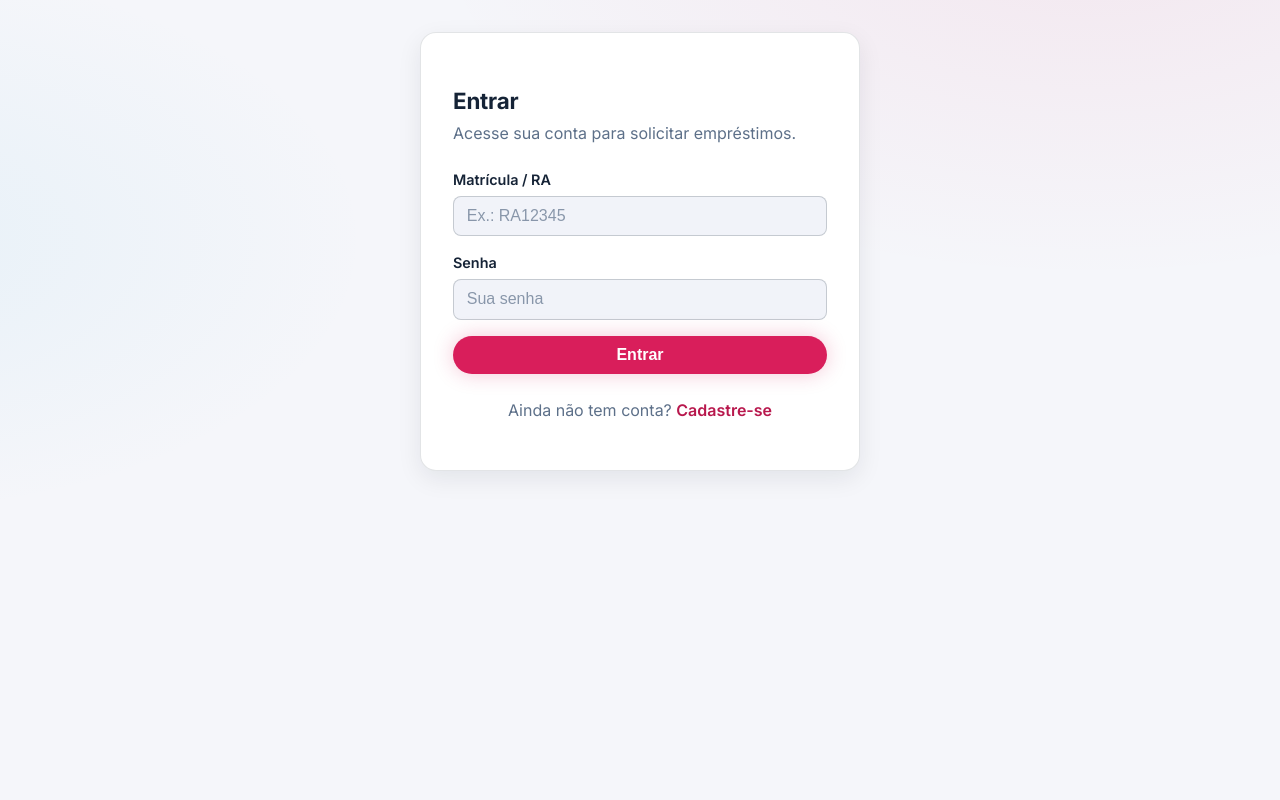
it: Tela de Login do Cliente › exibe mensagem de erro ao falhar na autenticação
Type "RA999" into the field labelled "Matrícula / RA" at (640, 216), box [453, 196, 827, 236]
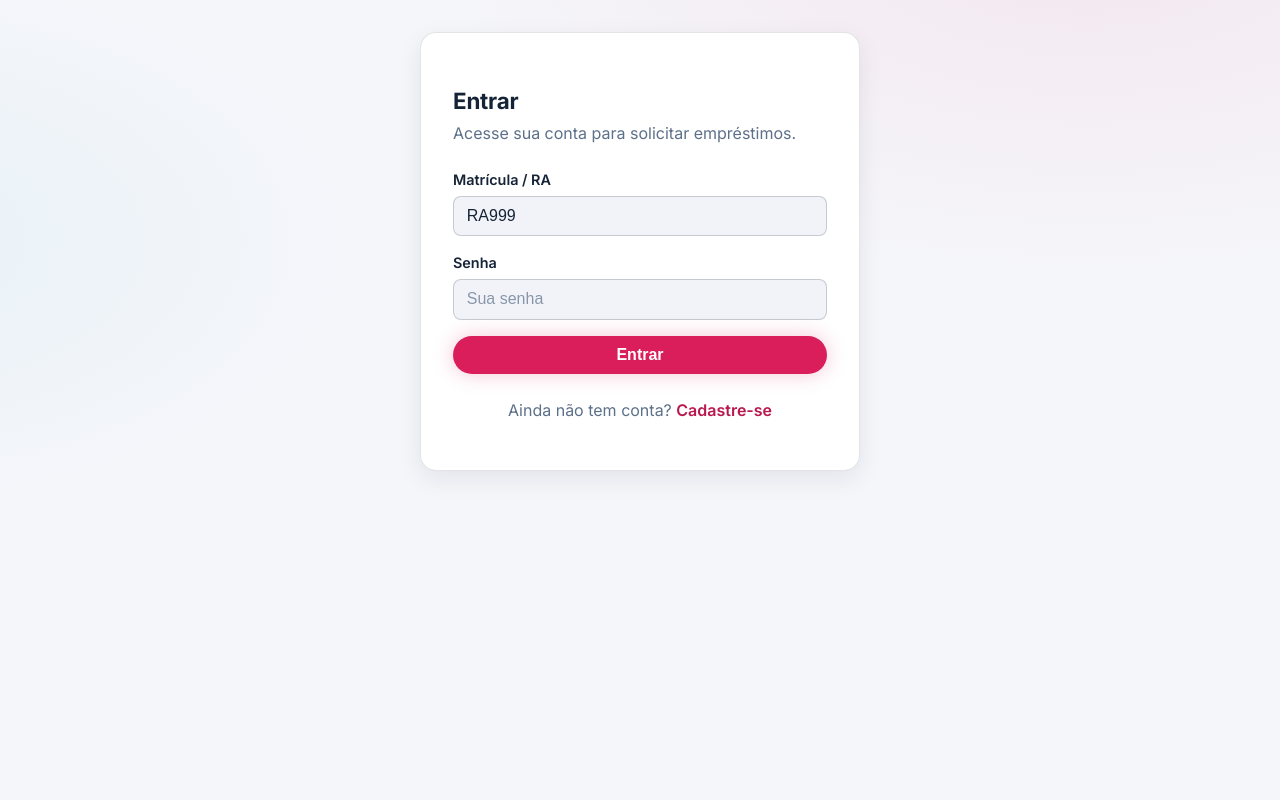
Type "errada" into the password field labelled "Senha" at (640, 299), box [453, 279, 827, 320]
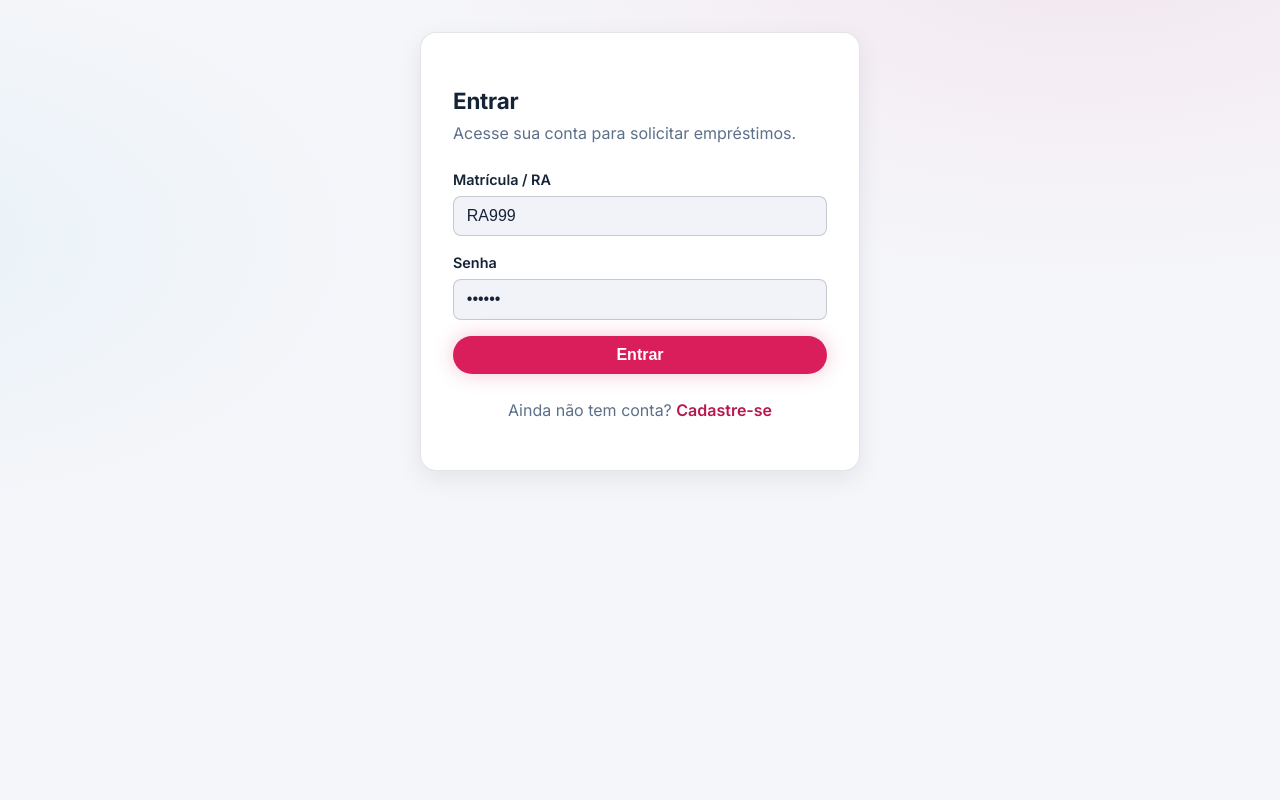
Click the button "Entrar" at (640, 355), box [453, 336, 827, 374]
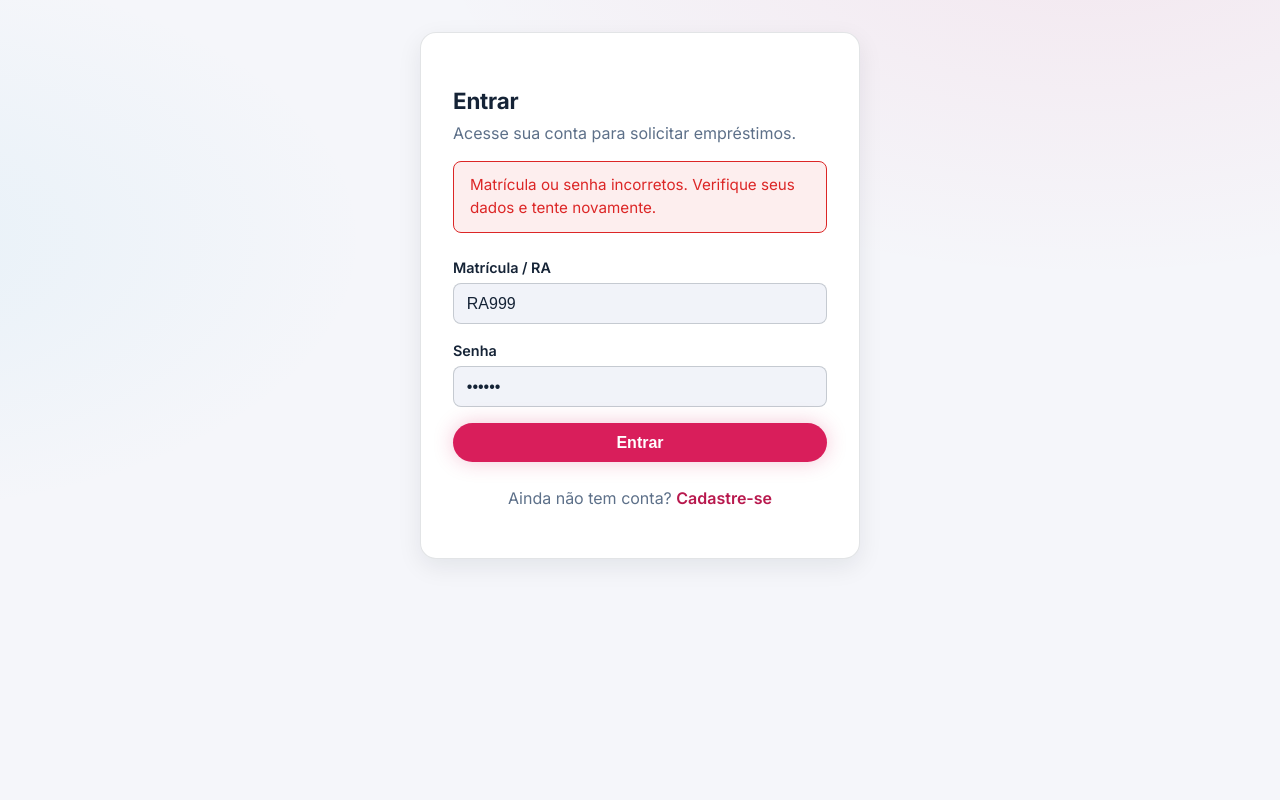
Result: the text "Matrícula ou senha incorretos. Verifique seus dados e tente novamente." is shown at [453, 161, 827, 233]
